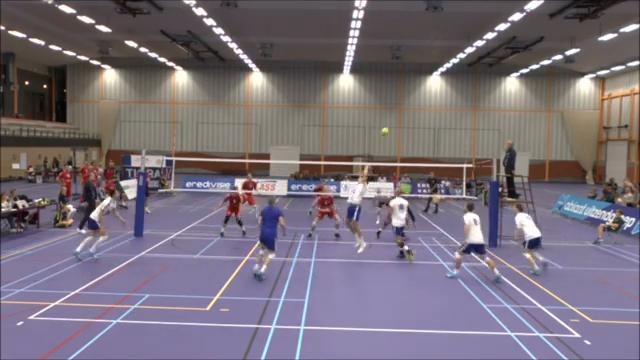Player: (447, 202, 501, 281), (73, 190, 125, 259), (253, 197, 285, 280), (515, 204, 547, 274), (389, 190, 414, 261), (307, 188, 340, 238), (217, 187, 245, 236), (241, 173, 258, 217), (373, 188, 390, 223), (308, 180, 325, 215), (376, 212, 391, 238)
Set: (340, 161, 373, 257)
ball: (379, 126, 389, 135)
